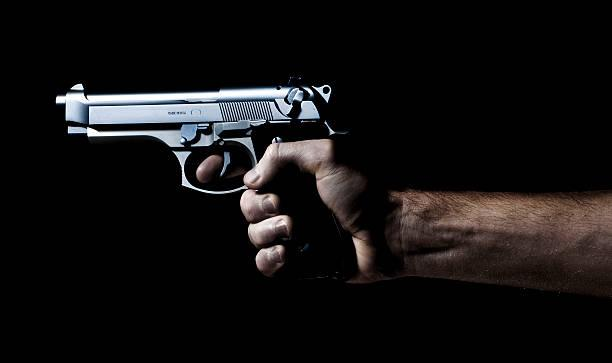weapon: (52, 75, 362, 285)
